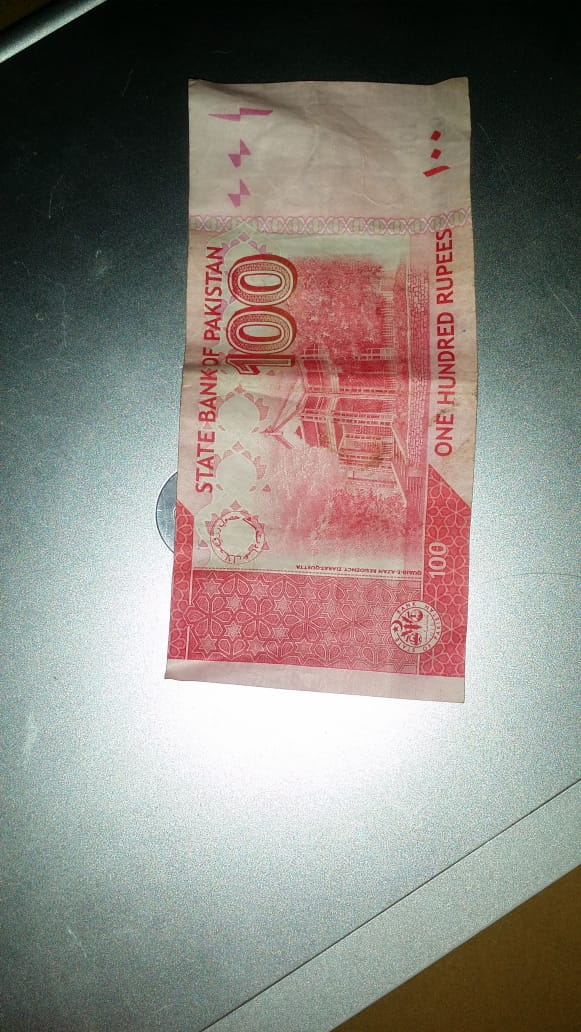100 rupee: (152, 75, 482, 705)
